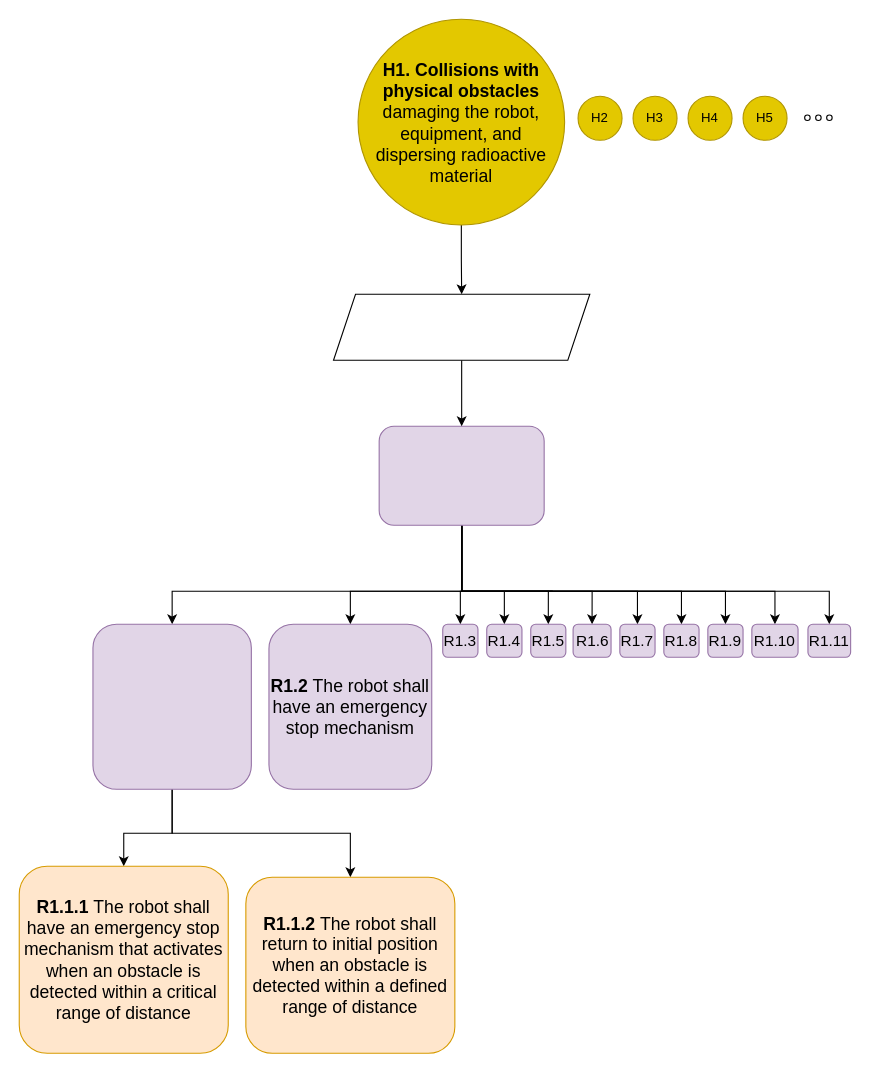
Some shapes in this 870 by 1073 pixel diagram are drawn without their labels. The centre of each missing label's shape, as x and y in pixels:
"R1 The robot shall avoid physical obstacles." goes at [461,475].
"R1.1 The robot shall maintain a safe distance from obstacles" goes at [171,706].
"SF 1. Prevent collision" goes at [461,326].
